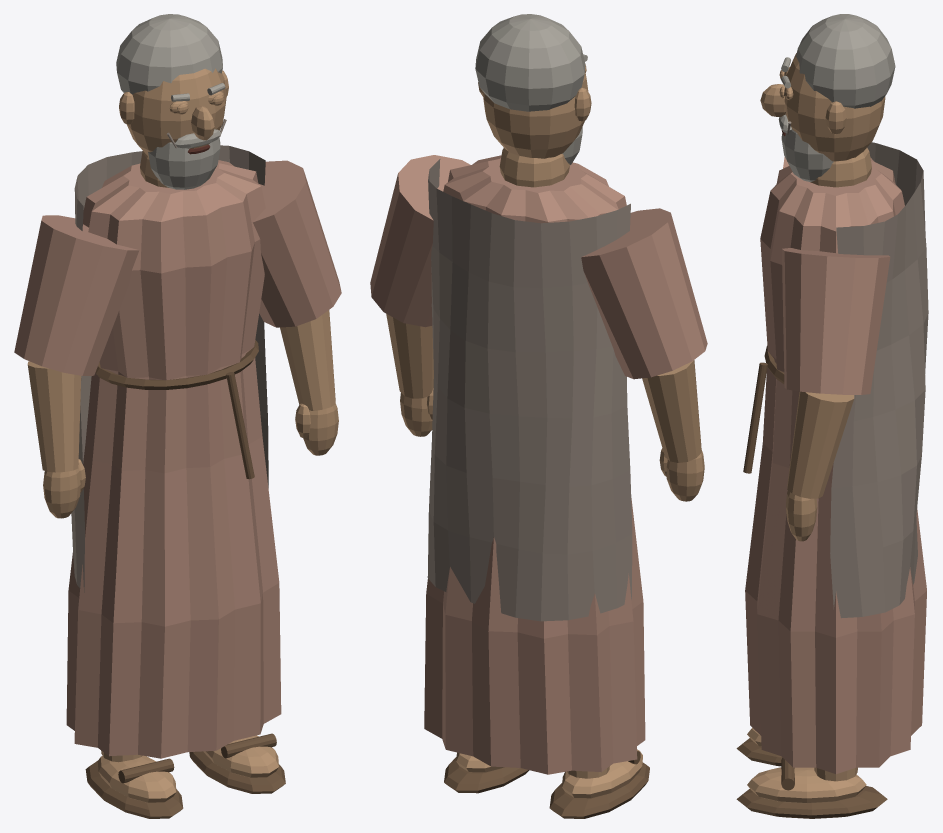
File: listener-clay.glb
3 views of the same model, side by side, from view 1: azimuth 30°, elevation 25°; view 2: azimuth 150°, elevation 25°; view 3: azimuth 270°, elevation 25° (orthographic). The views are drawn at different scales.
Visible parts, largest first — view 1: listener-clay_torso_mesh, listener-clay_arm_left_mesh, listener-clay_head_mesh, listener-clay_arm_right_mesh, listener-clay_forearm_left_mesh, listener-clay_forearm_right_mesh, listener-clay_foot_left_mesh, listener-clay_foot_right_mesh, listener-clay_jaw_mesh; view 2: listener-clay_torso_mesh, listener-clay_arm_left_mesh, listener-clay_head_mesh, listener-clay_arm_right_mesh, listener-clay_forearm_left_mesh, listener-clay_forearm_right_mesh, listener-clay_foot_left_mesh, listener-clay_foot_right_mesh; view 3: listener-clay_torso_mesh, listener-clay_arm_right_mesh, listener-clay_head_mesh, listener-clay_forearm_right_mesh, listener-clay_foot_right_mesh, listener-clay_jaw_mesh, listener-clay_foot_left_mesh, listener-clay_leg_right_mesh.
Boxes of the visible parts, box(x1,y1,x2,y2) form: listener-clay_torso_mesh: box(66, 145, 281, 758); listener-clay_arm_left_mesh: box(14, 215, 139, 375); listener-clay_head_mesh: box(116, 14, 228, 156); listener-clay_arm_right_mesh: box(253, 160, 341, 327); listener-clay_forearm_left_mesh: box(27, 361, 85, 518); listener-clay_forearm_right_mesh: box(280, 310, 338, 455); listener-clay_foot_left_mesh: box(85, 755, 183, 818); listener-clay_foot_right_mesh: box(189, 733, 285, 793); listener-clay_jaw_mesh: box(148, 137, 220, 189); listener-clay_torso_mesh: box(424, 148, 645, 774); listener-clay_arm_left_mesh: box(581, 208, 707, 379); listener-clay_head_mesh: box(475, 14, 591, 158); listener-clay_arm_right_mesh: box(370, 155, 470, 327); listener-clay_forearm_left_mesh: box(642, 360, 704, 501); listener-clay_forearm_right_mesh: box(386, 314, 433, 436); listener-clay_foot_left_mesh: box(549, 749, 649, 818); listener-clay_foot_right_mesh: box(444, 752, 529, 793); listener-clay_torso_mesh: box(743, 142, 928, 774); listener-clay_arm_right_mesh: box(782, 248, 890, 394); listener-clay_head_mesh: box(760, 14, 895, 161); listener-clay_forearm_right_mesh: box(785, 391, 854, 541); listener-clay_foot_right_mesh: box(736, 757, 887, 818); listener-clay_jaw_mesh: box(781, 129, 833, 181); listener-clay_foot_left_mesh: box(736, 728, 782, 766); listener-clay_leg_right_mesh: box(814, 767, 857, 781).
Bounding box in the file's own units: 0.7689 × 1.76 × 0.4009.
